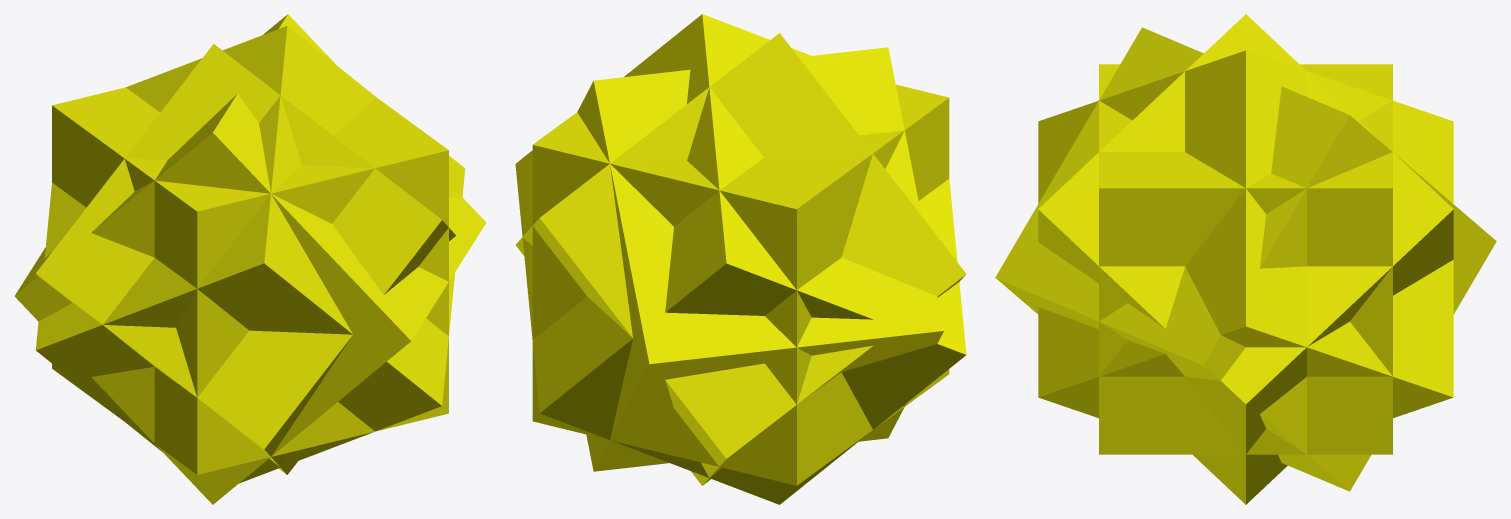
File: rCubes.fbx
The picture shows the model from 3 angles, left to right: view 1: azimuth 30°, elevation 25°; view 2: azimuth 150°, elevation 25°; view 3: azimuth 270°, elevation 25°; orthographic projection. The views are drawn at different scales.
Visible parts, largest first — view 1: pCube5; view 2: pCube5; view 3: pCube5.
Part boxes in pixels (x1,y1,x2,y2): pCube5: (14,14,486,504); pCube5: (515,14,966,504); pCube5: (995,14,1496,504).
Bounding box in the file's own units: 3.41 × 3.41 × 3.41.
